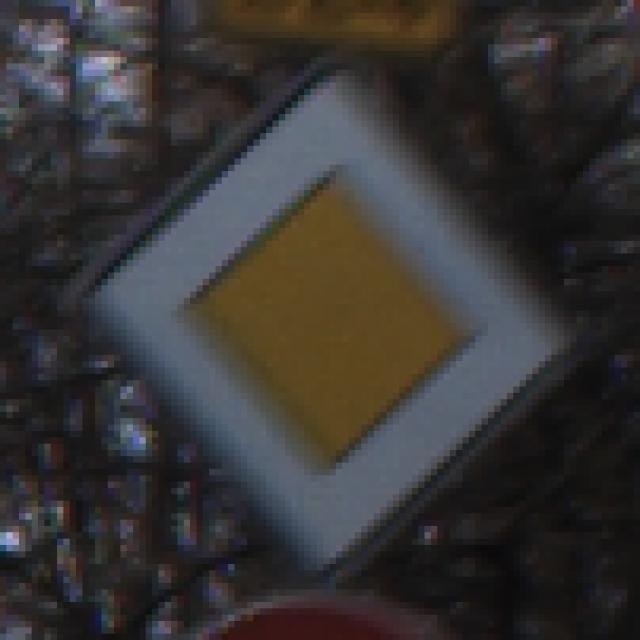Main Road: (58, 58, 590, 590)
